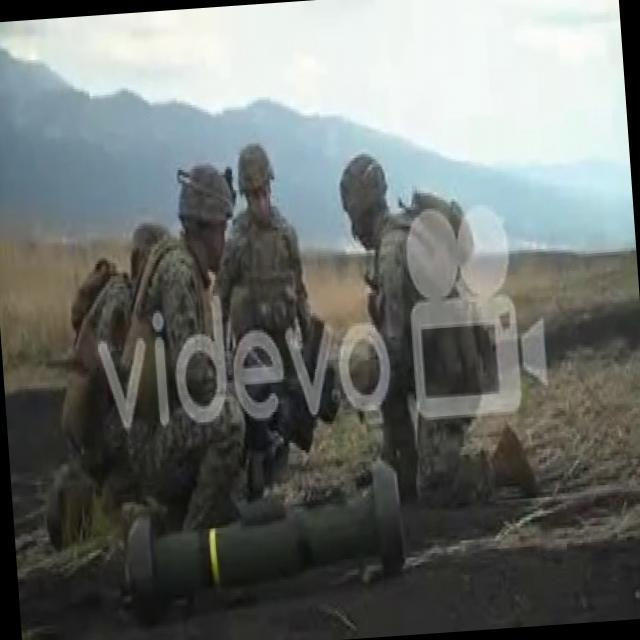rocket: (120, 453, 408, 628)
